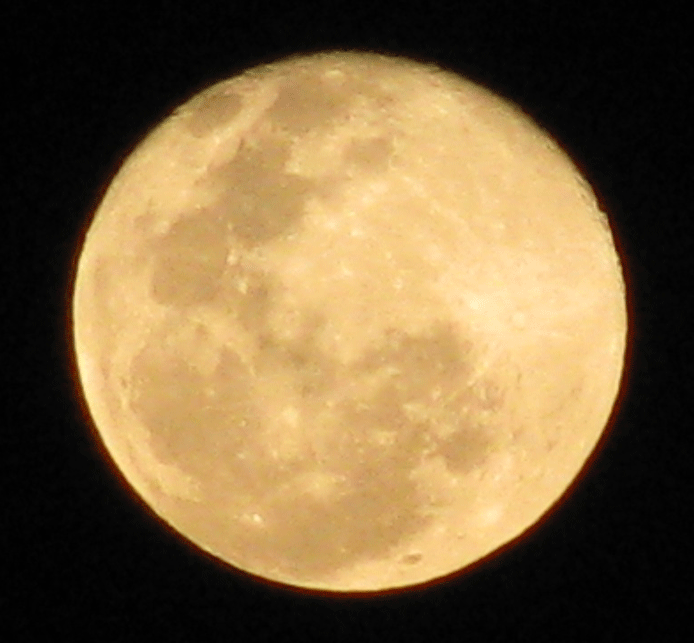crater: (497, 295, 540, 344), (384, 539, 430, 576)
